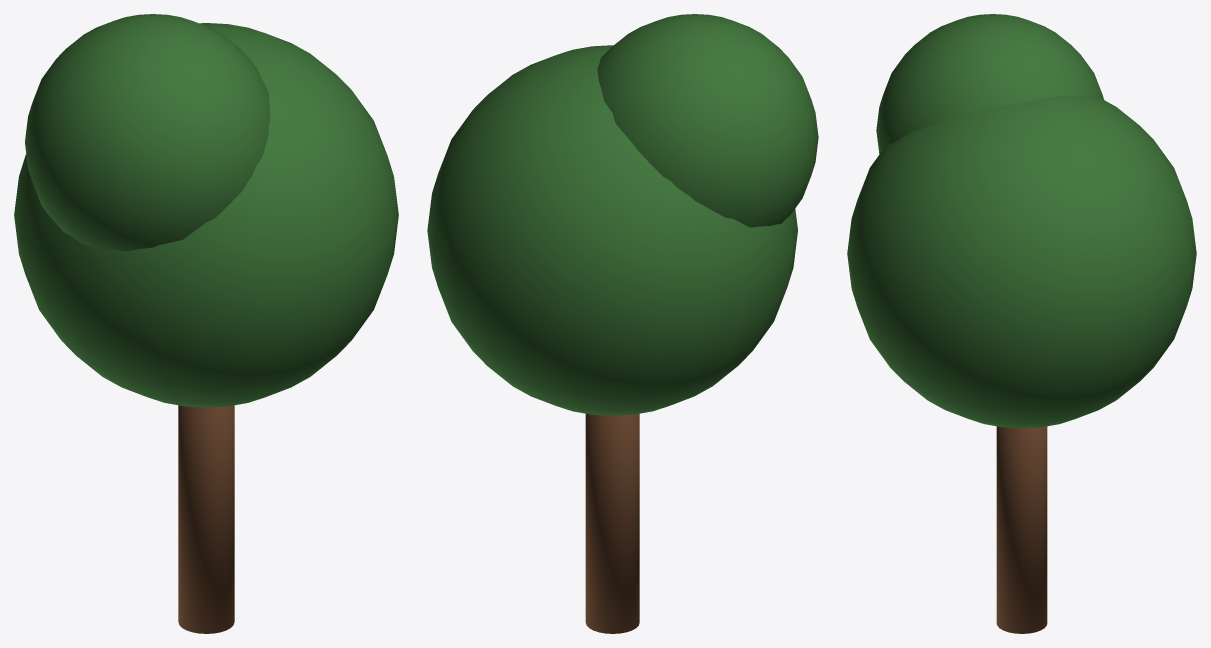
File: SM_Tree.fbx
3 renders of one model, left to right at view 1: azimuth 30°, elevation 25°; view 2: azimuth 150°, elevation 25°; view 3: azimuth 270°, elevation 25°, orthographic. The views are drawn at different scales.
Visible parts, largest first — view 1: Crown_A, Crown_B, Trunk; view 2: Crown_A, Crown_B, Trunk; view 3: Crown_A, Crown_B, Trunk.
Part boxes in pixels (<box>): Crown_A: <box>14,23,398,407</box>; Crown_B: <box>25,14,270,251</box>; Trunk: <box>178,405,234,633</box>; Crown_A: <box>427,45,797,415</box>; Crown_B: <box>597,14,818,227</box>; Trunk: <box>585,413,639,633</box>; Crown_A: <box>847,95,1196,428</box>; Crown_B: <box>876,14,1103,153</box>; Trunk: <box>996,426,1047,633</box>.
Size of the model in its own units: 2.5 by 4.3 by 2.4.
